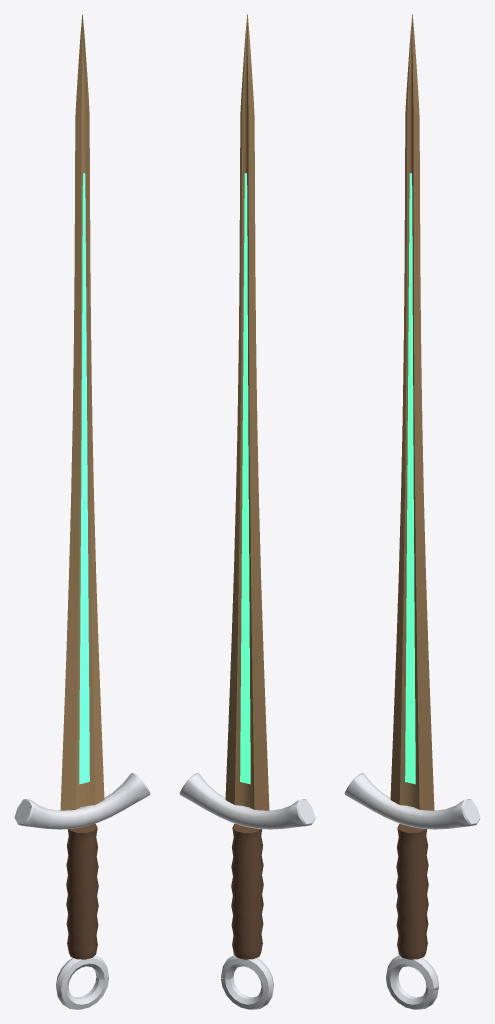
The model's file is depth_starfall_spatha.glb.
3 views of the same model, side by side, from view 1: azimuth 30°, elevation 25°; view 2: azimuth 150°, elevation 25°; view 3: azimuth 330°, elevation 25° (orthographic).
Visible parts, largest first — view 1: depth_starfall_spatha; view 2: depth_starfall_spatha; view 3: depth_starfall_spatha.
Boxes of the visible parts, x1=… form: depth_starfall_spatha: x1=14, y1=14, x2=150, y2=1009; depth_starfall_spatha: x1=179, y1=14, x2=315, y2=1009; depth_starfall_spatha: x1=344, y1=14, x2=480, y2=1009.
Bounding box in the file's own units: 0.1703 × 1.25 × 0.0356.
